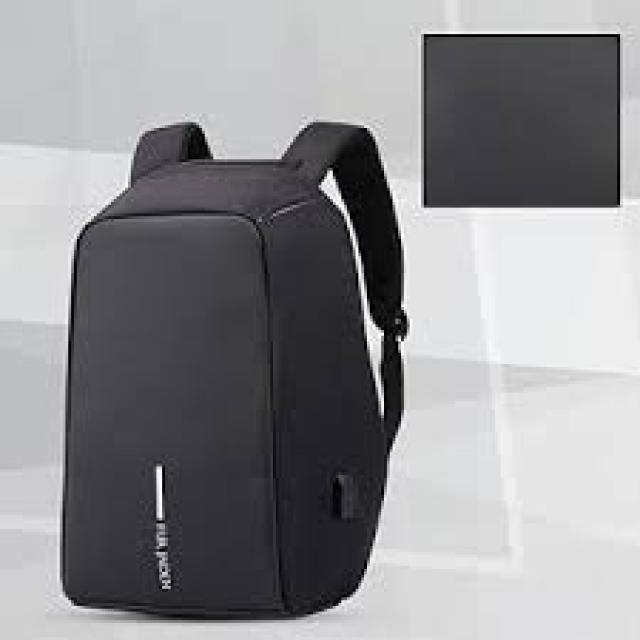backpack: (58, 118, 408, 618)
